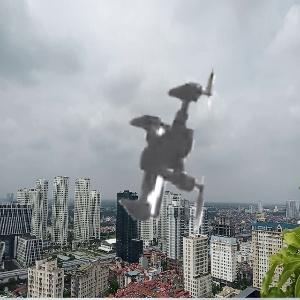drone: (10, 9, 300, 299)
